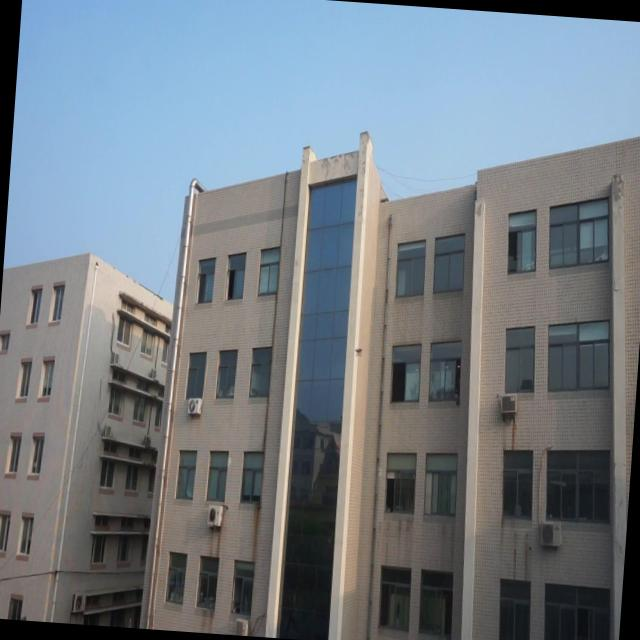drone: (354, 344, 364, 361)
